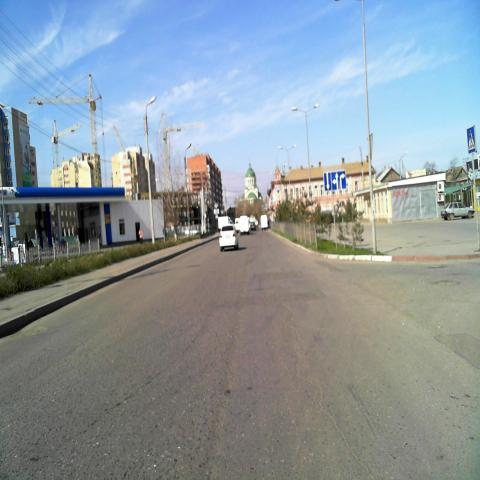5_15_7: (324, 171, 347, 191)
